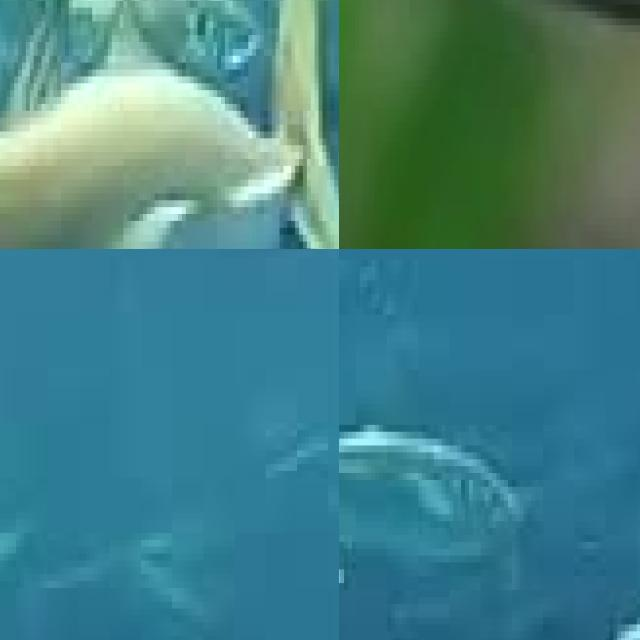fish: (0, 0, 339, 249), (339, 0, 640, 128)
